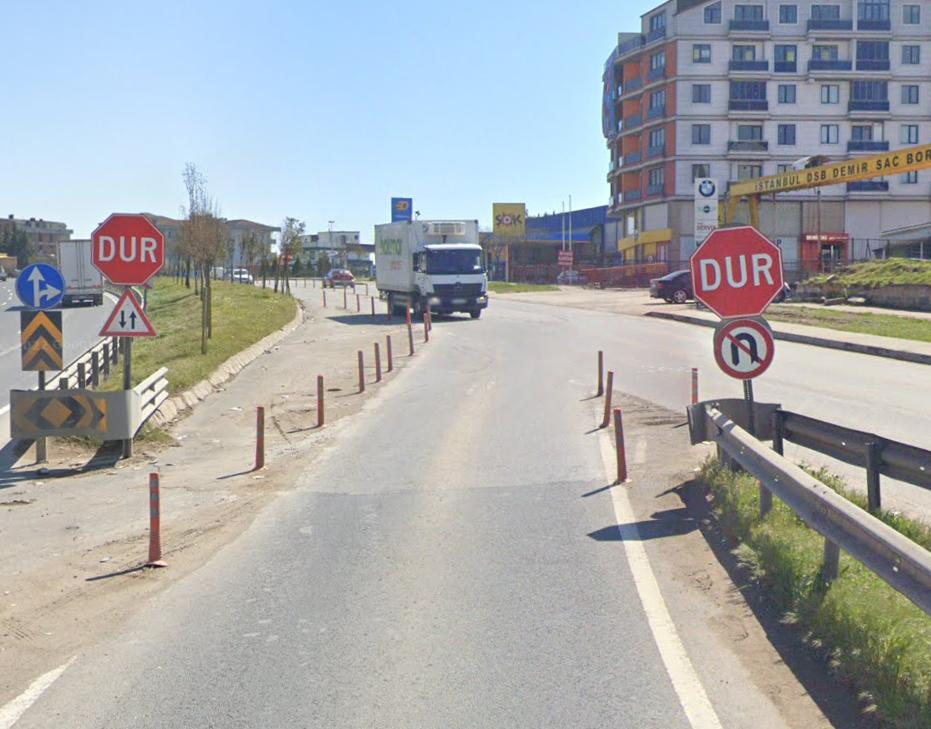stop: (680, 218, 806, 319), (82, 208, 173, 290)
